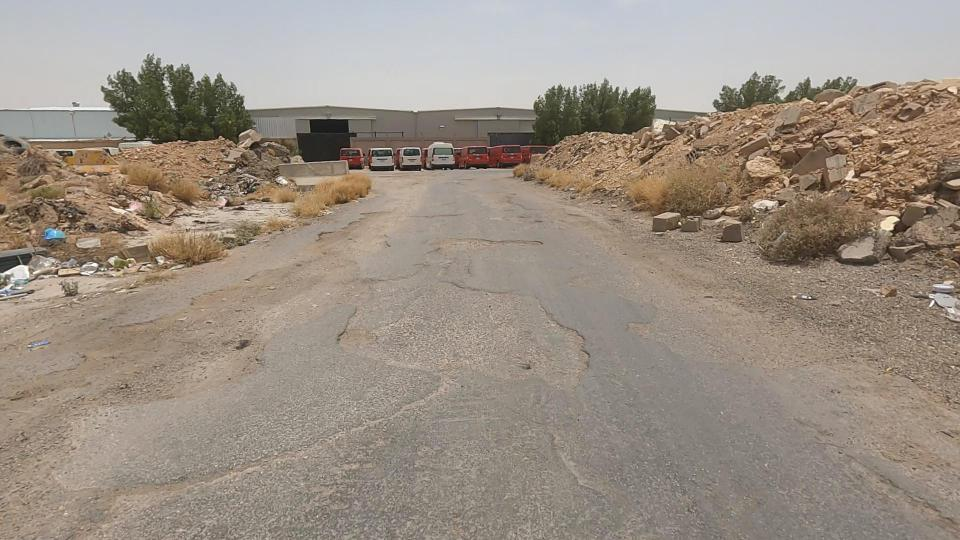GARBAGE: (0, 225, 171, 317), (878, 251, 960, 340), (1, 199, 110, 264)
POTHOLES: (321, 211, 670, 456), (79, 235, 352, 461), (250, 168, 442, 306), (384, 200, 574, 291), (275, 263, 402, 388)
